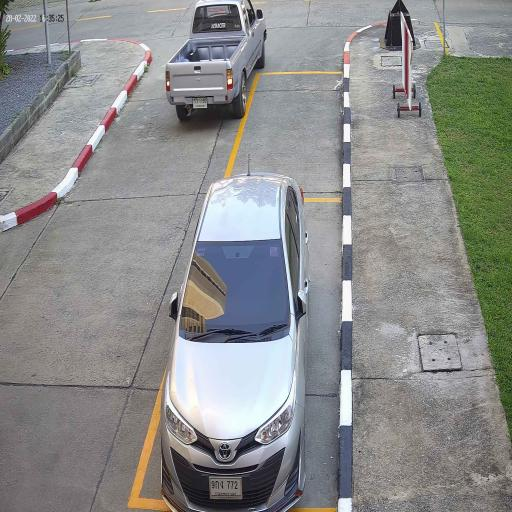car: (159, 172, 310, 512), (165, 0, 268, 122)
